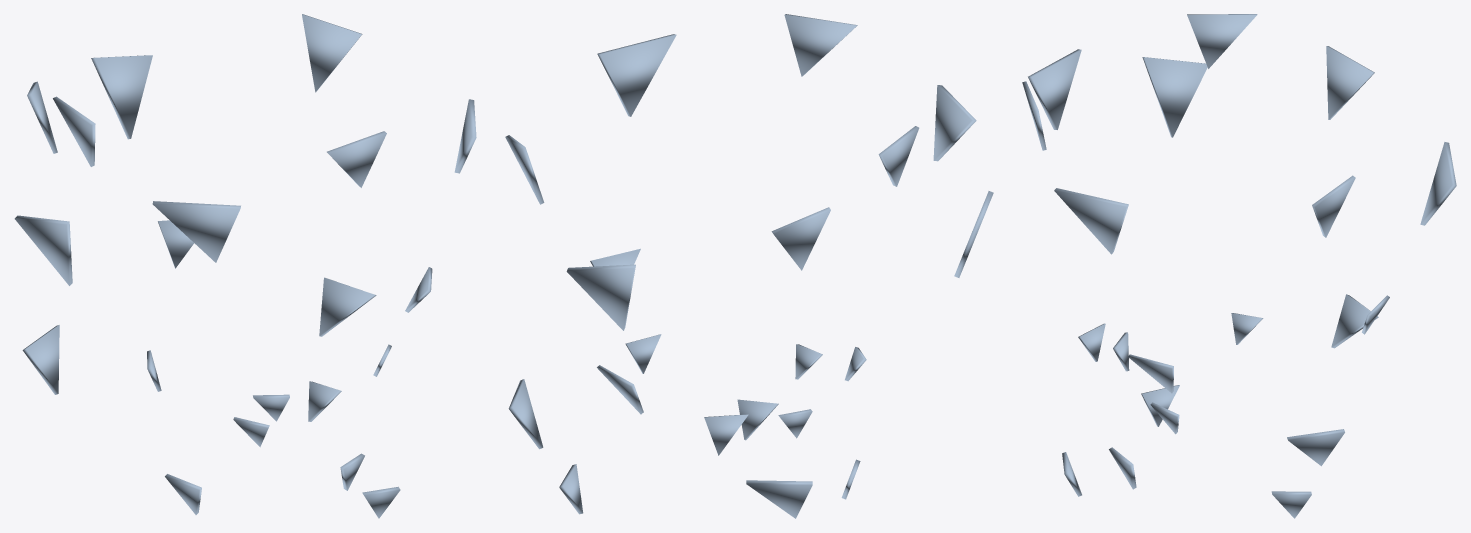
The model's file is tornado_2.fbx.
3 views of the same model, side by side, from view 1: azimuth 30°, elevation 25°; view 2: azimuth 150°, elevation 25°; view 3: azimuth 270°, elevation 25° (orthographic). The views are drawn at different scales.
Parts seen in each view (by area): view 1: Cylinder_001; view 2: Cylinder_001; view 3: Cylinder_001.
Boxes of the visible parts, left/top/right/bottom form: Cylinder_001: left=14, top=14, right=476, bottom=518; Cylinder_001: left=505, top=14, right=993, bottom=518; Cylinder_001: left=1022, top=14, right=1456, bottom=518.
Bounding box in the file's own units: 2.54 × 2.38 × 2.47.
